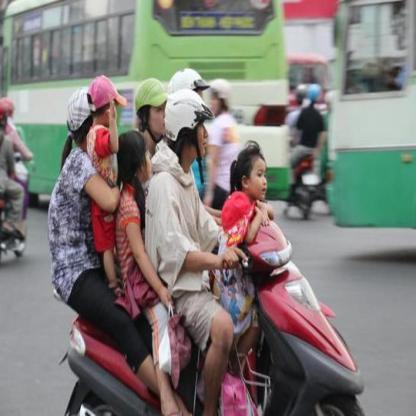helmet: (164, 89, 216, 158)
nohelmet: (116, 130, 154, 193), (229, 147, 269, 203)
